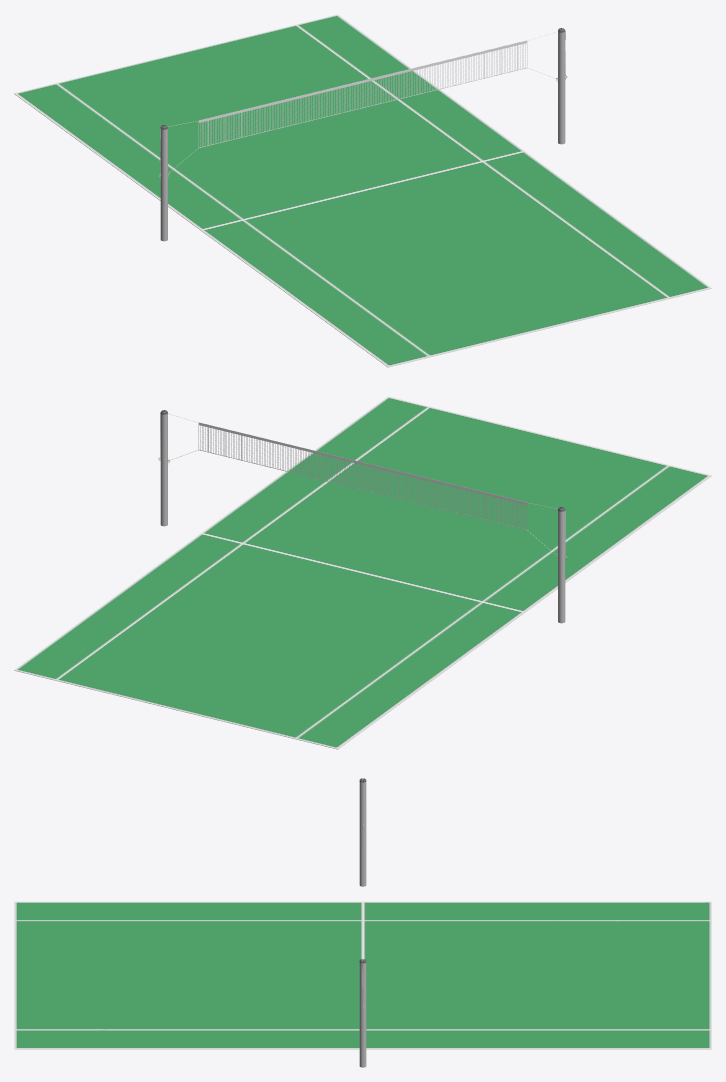
Rendered from 羽毛球场.glb.
The picture shows the model from 3 angles, top to bottom: view 1: azimuth 30°, elevation 25°; view 2: azimuth 150°, elevation 25°; view 3: azimuth 270°, elevation 25°; orthographic projection. The views are drawn at different scales.
Visible parts, largest first — view 1: Court_0, Net_2, Posts_3; view 2: Court_0, Net_2, Posts_3; view 3: Court_0, Posts_3.
Part boxes in pixels (box(x1,y1,x2,y2)): Court_0: box(14, 14, 711, 367); Net_2: box(198, 40, 527, 147); Posts_3: box(158, 28, 567, 241); Court_0: box(14, 396, 711, 749); Net_2: box(198, 422, 527, 529); Posts_3: box(158, 410, 567, 623); Court_0: box(14, 901, 711, 1049); Posts_3: box(359, 778, 366, 1067).
Size of what is drawn, in the model's own units: 9.47 by 2.51 by 15.
4 materials, 1 textured.
